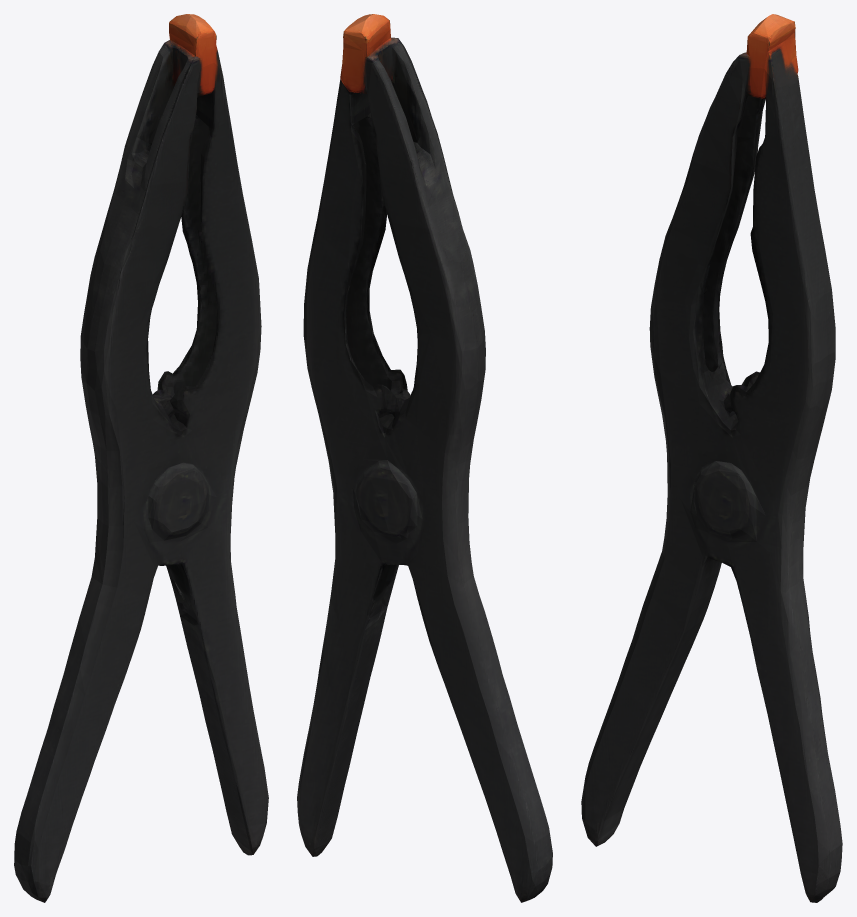
The model's file is sample.glb.
The picture shows the model from 3 angles, left to right: view 1: azimuth 30°, elevation 25°; view 2: azimuth 150°, elevation 25°; view 3: azimuth 330°, elevation 25°; orthographic projection. The views are drawn at different scales.
Visible parts, largest first — view 1: world; view 2: world; view 3: world.
Part boxes in pixels (<box>): world: <box>14,14,268,902</box>; world: <box>297,14,552,902</box>; world: <box>581,14,842,902</box>.
Size of the model in its own units: 0.2931 by 0.9814 by 0.0647.
Materials: 1 (1 with a texture image).
